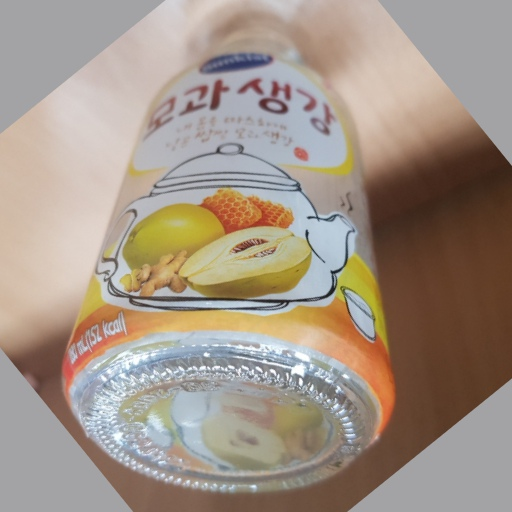Glass_4: (60, 13, 403, 493)
